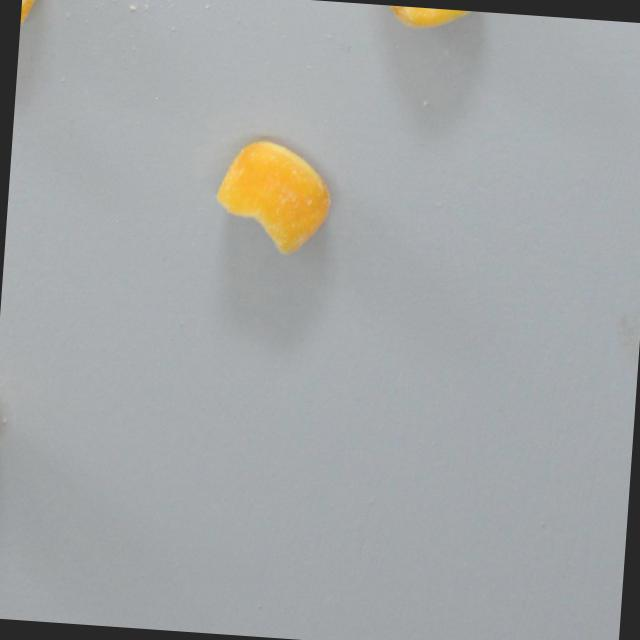pelicula: (209, 135, 337, 260), (366, 3, 486, 33)
